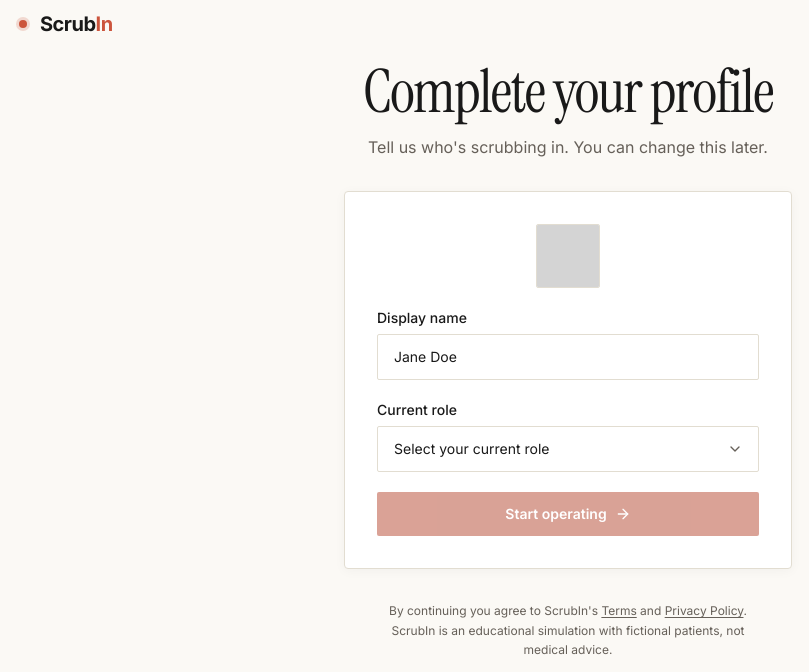
Scenario: Onboarding › submits the display name and selected role via completeOnboarding
This screenshot has width=809, height=672.
Replace the text in the field with placeholder "Dr. House" with "Dr. House": (568, 357) left=377, top=334, right=759, bottom=380
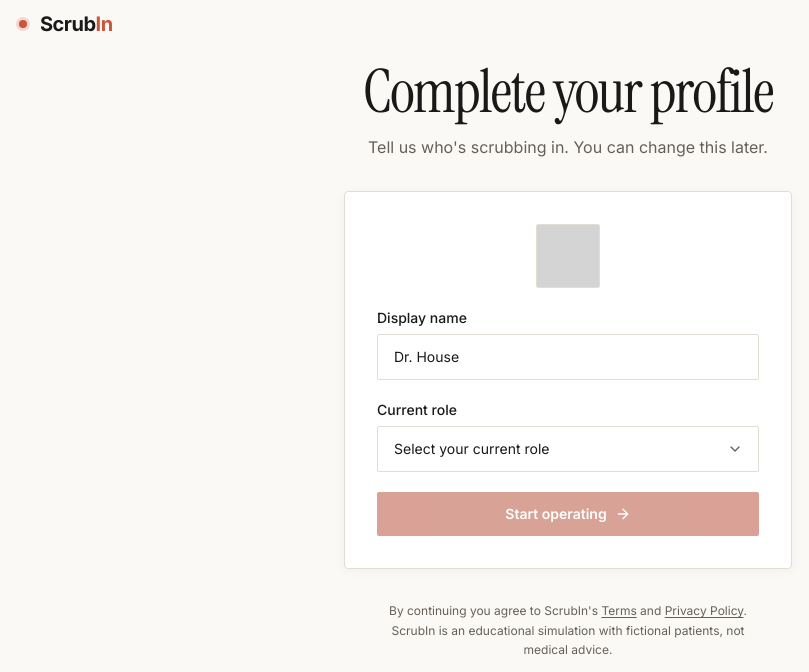
Select "Attending Surgeon" in the dropdown: (568, 449) left=377, top=426, right=759, bottom=472
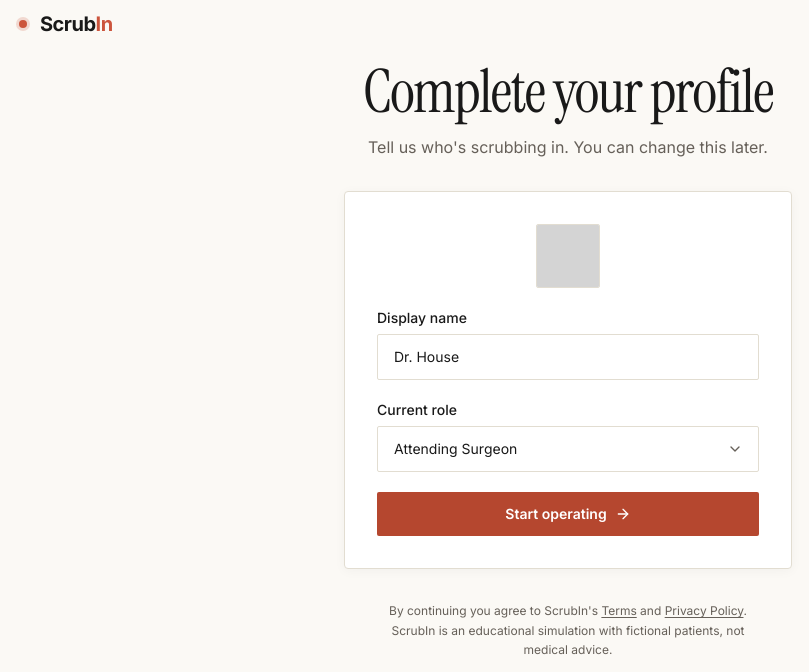
Click the button "Start operating": click(568, 514) left=377, top=492, right=759, bottom=536
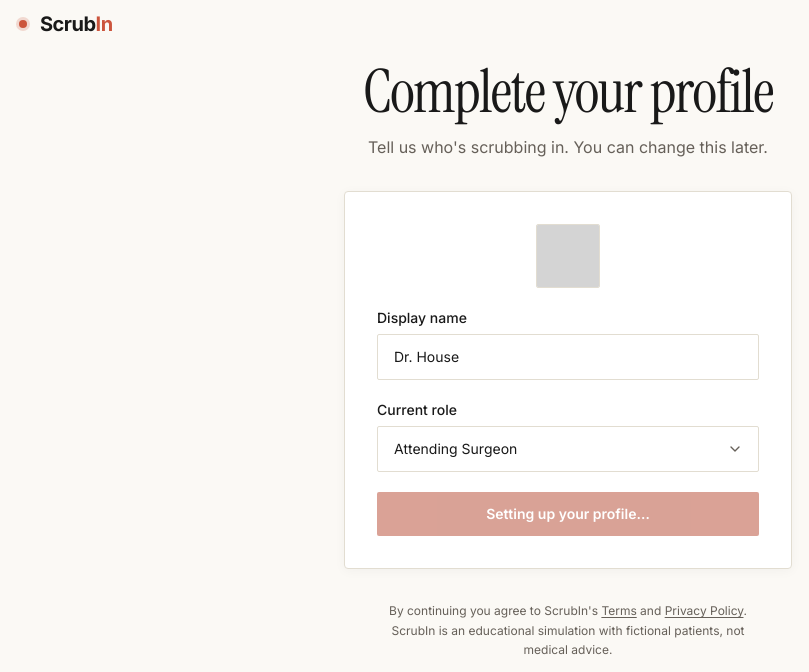
Expected: the button "Start operating" is gone
Expected: the button "Setting up your profile…" is disabled, left=377, top=492, right=759, bottom=536
